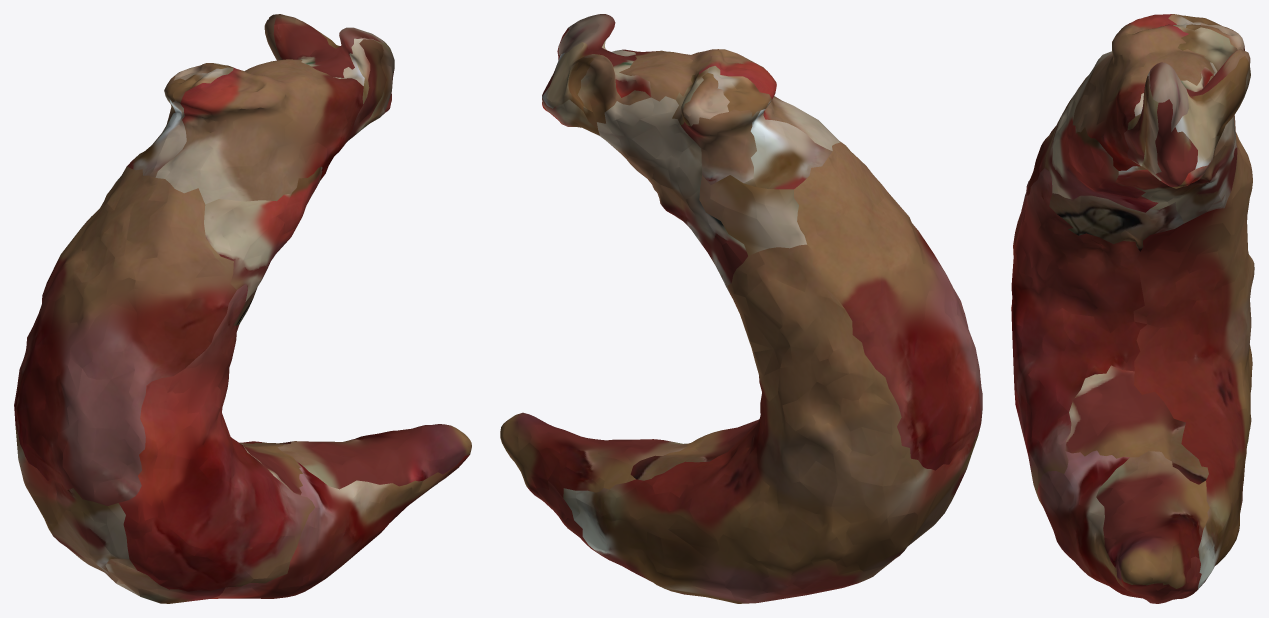
File: yamEsacpe_YamWalk_0013_yamWalk05.fbx
3 views of the same model, side by side, from view 1: azimuth 30°, elevation 25°; view 2: azimuth 150°, elevation 25°; view 3: azimuth 270°, elevation 25° (orthographic). The views are drawn at different scales.
Parts seen in each view (by area): view 1: YamWalk_0013_yamWalk05; view 2: YamWalk_0013_yamWalk05; view 3: YamWalk_0013_yamWalk05.
Boxes of the visible parts, x1,y1,x2,y2 form: YamWalk_0013_yamWalk05: (14, 14, 471, 603); YamWalk_0013_yamWalk05: (500, 14, 982, 603); YamWalk_0013_yamWalk05: (1011, 14, 1254, 603).
Bounding box in the file's own units: 0.0718 × 0.083 × 0.0327.
